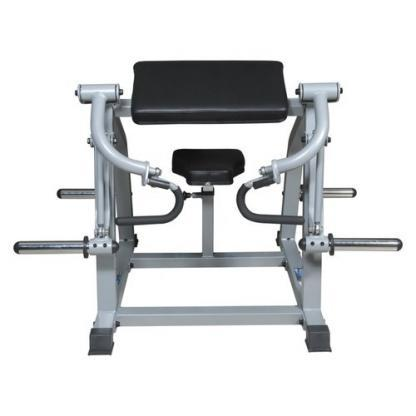arm curl machine: (15, 59, 403, 356)
